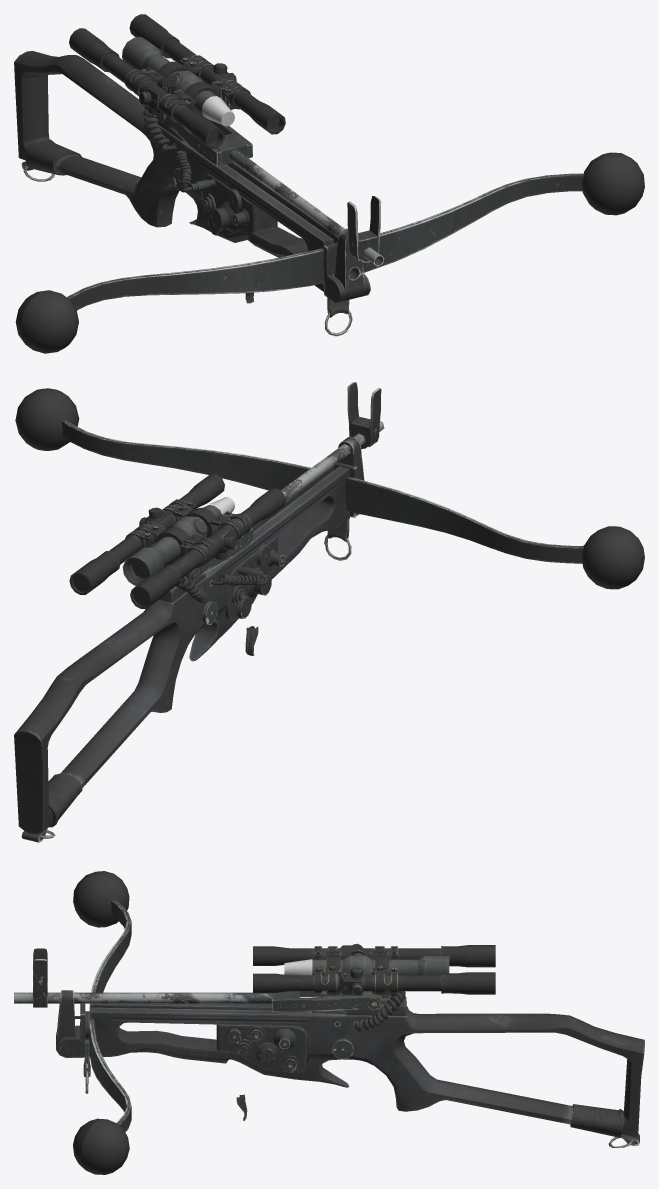
File: bowcaster.glb
3 views of the same model, one above another, from view 1: azimuth 30°, elevation 25°; view 2: azimuth 150°, elevation 25°; view 3: azimuth 270°, elevation 25° (orthographic). The views are drawn at different scales.
Bounding box in the file's own units: 0.7136 × 0.2348 × 0.7014.
Materials: 1 (1 with a texture image).
